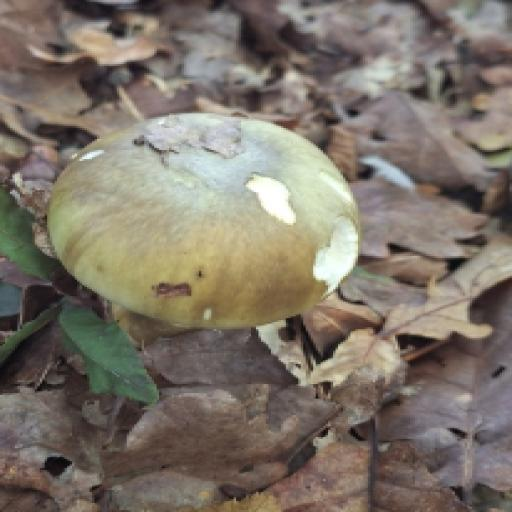mushroom: (53, 113, 362, 330)
